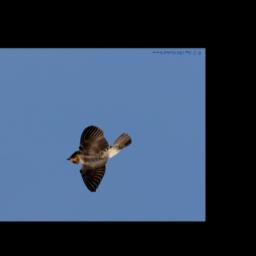Swallow: (64, 124, 133, 194)
